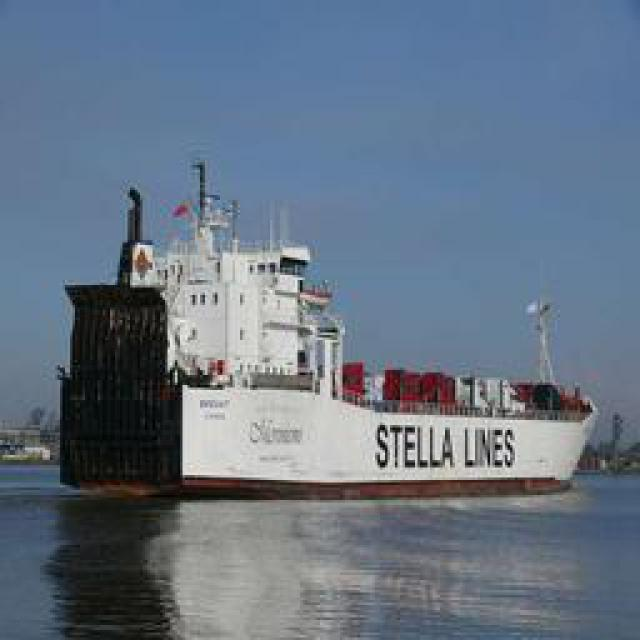Ship: (95, 152, 598, 490)
